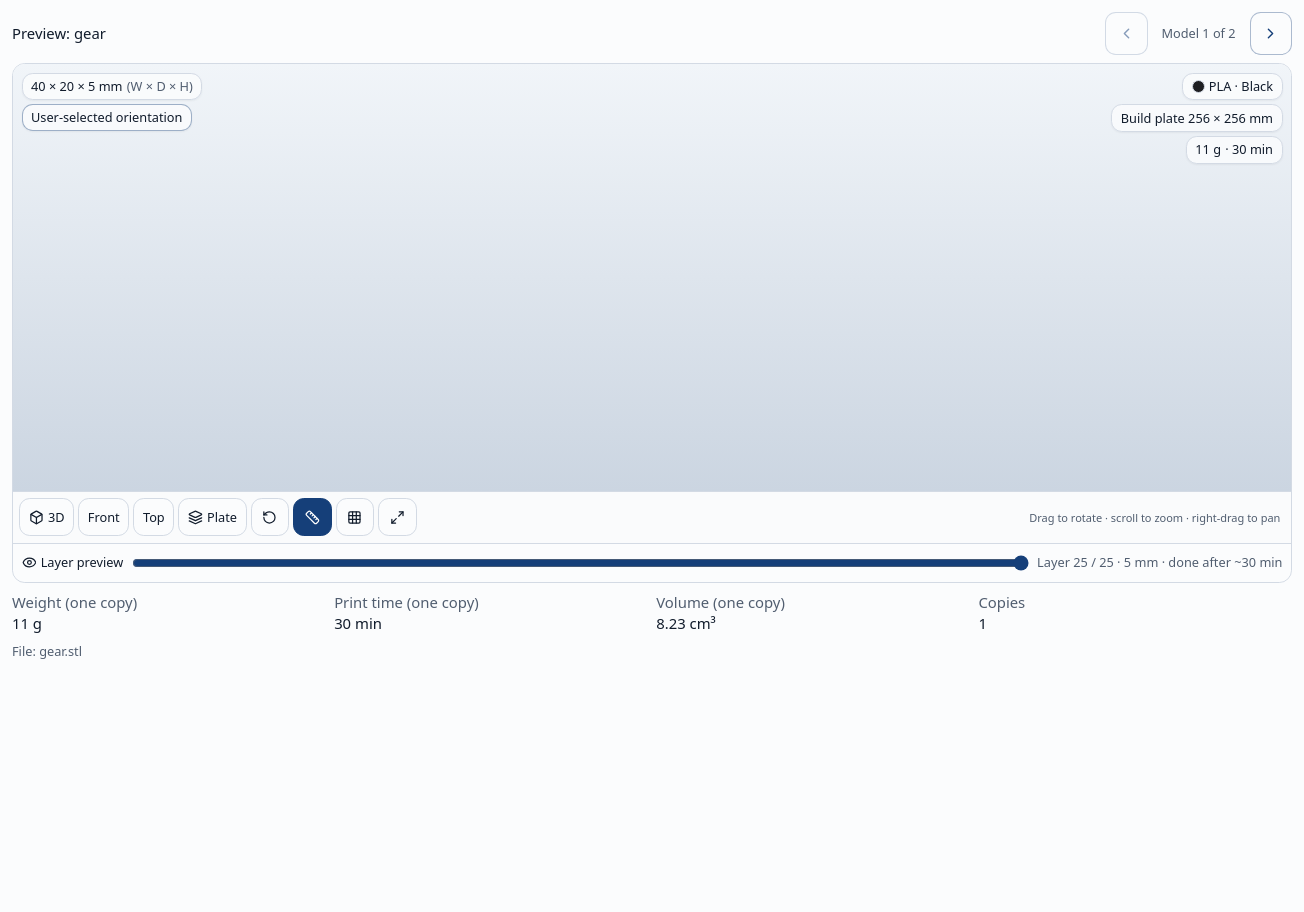
Test: BookedStlPreview › previews a booking like IICTEST-3DP-01202600002: two STLs, the first turned on the plate, with model info
Expected: the element with test id "stl-preview-size" shows "40 × 20 × 5 mm", [22,72,202,100]
Expected: the text with test id "stl-preview-orientation-note" reads "User-selected orientation", [31,108,182,126]
Click the button named "Next model". click: (1271, 33)
box: [1250,12,1292,54]
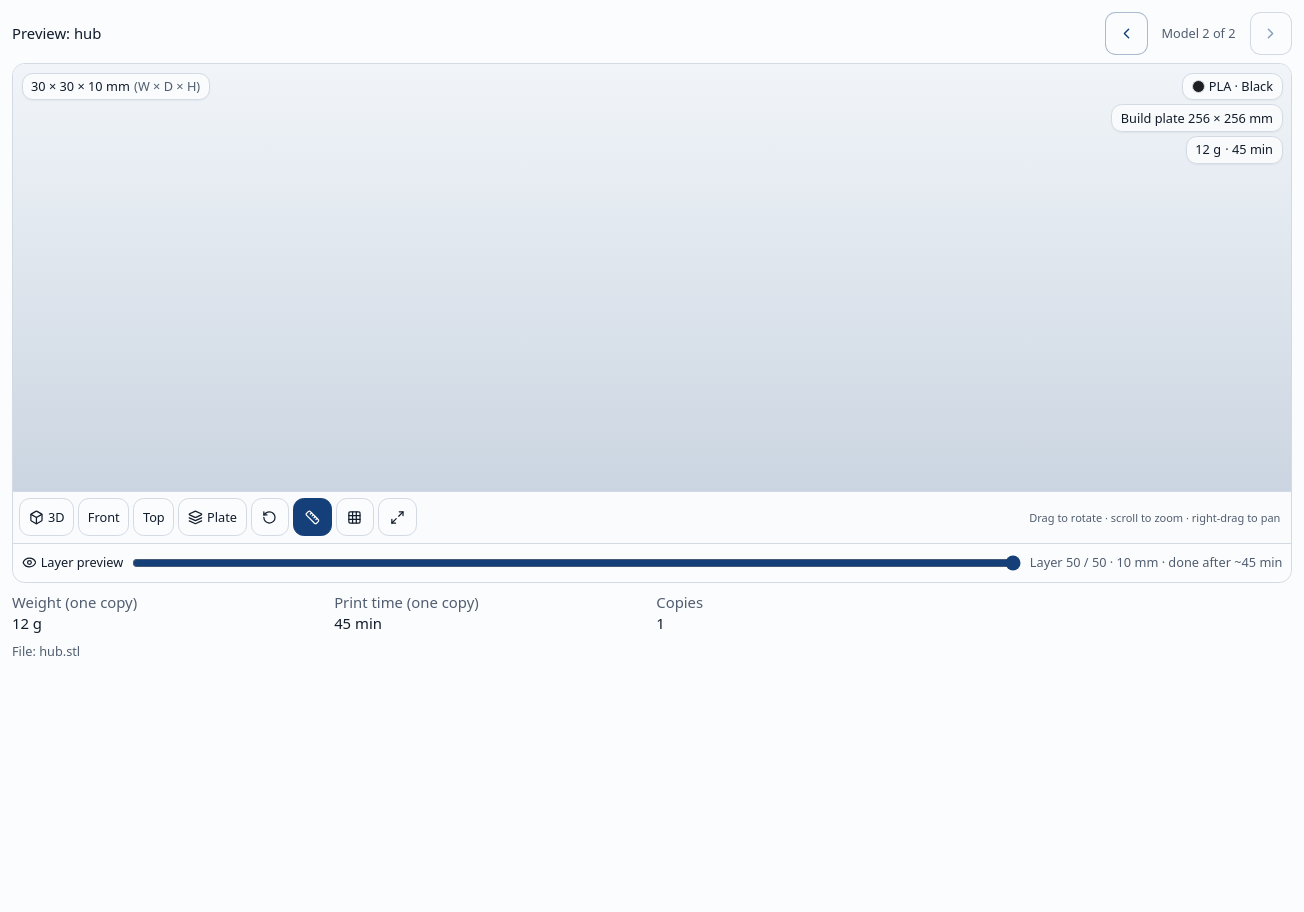
Now the element with test id "stl-preview-size" shows "30 × 30 × 10 mm", box [22,72,210,100]
Now the text with test id "booked-stl-volume" is gone
